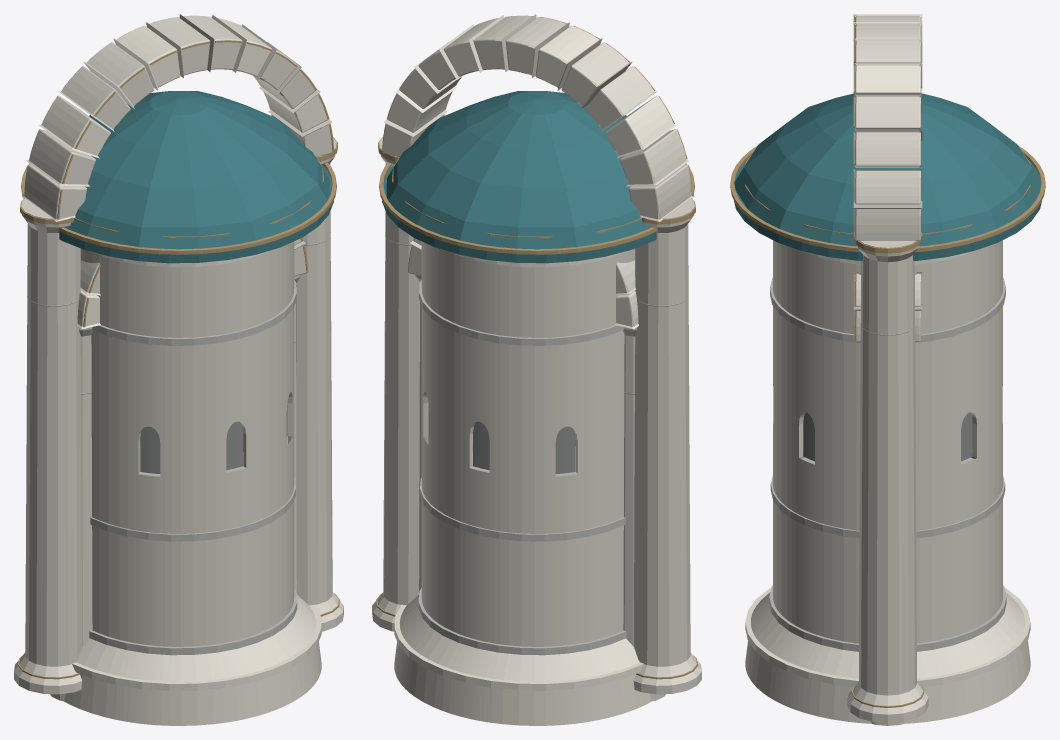
Rendered from world08-observatory-architecture.glb.
3 renders of one model, left to right at view 1: azimuth 30°, elevation 25°; view 2: azimuth 150°, elevation 25°; view 3: azimuth 270°, elevation 25°, orthographic.
Parts seen in each view (by area): view 1: observatory-wall-tower ivory-stone, observatory-lower-arch ivory-stone, observatory-wall-tower deep-teal-bronze, observatory-lower-arch stone-highlight, observatory-wall-tower stone-strata, observatory-upper-arch ivory-stone, observatory-wall-tower stone-highlight, observatory-wall-tower aged-brass, observatory-wall-tower recess-shadow, observatory-lower-arch aged-brass, observatory-upper-arch stone-highlight; view 2: observatory-wall-tower ivory-stone, observatory-lower-arch ivory-stone, observatory-wall-tower deep-teal-bronze, observatory-lower-arch stone-highlight, observatory-wall-tower stone-strata, observatory-upper-arch ivory-stone, observatory-wall-tower stone-highlight, observatory-wall-tower aged-brass, observatory-wall-tower recess-shadow, observatory-lower-arch aged-brass, observatory-upper-arch stone-highlight; view 3: observatory-wall-tower ivory-stone, observatory-lower-arch ivory-stone, observatory-wall-tower deep-teal-bronze, observatory-wall-tower stone-strata, observatory-lower-arch stone-highlight, observatory-wall-tower stone-highlight, observatory-wall-tower aged-brass, observatory-wall-tower recess-shadow, observatory-lower-arch aged-brass, observatory-upper-arch ivory-stone.
Part boxes in pixels (<box>): observatory-wall-tower ivory-stone: <box>64,241,321,725</box>; observatory-lower-arch ivory-stone: <box>14,14,343,694</box>; observatory-wall-tower deep-teal-bronze: <box>59,91,333,263</box>; observatory-lower-arch stone-highlight: <box>38,15,328,158</box>; observatory-wall-tower stone-strata: <box>89,280,297,655</box>; observatory-upper-arch ivory-stone: <box>50,241,306,701</box>; observatory-wall-tower stone-highlight: <box>72,251,321,690</box>; observatory-wall-tower aged-brass: <box>21,158,336,254</box>; observatory-wall-tower recess-shadow: <box>140,405,287,473</box>; observatory-lower-arch aged-brass: <box>18,40,339,679</box>; observatory-upper-arch stone-highlight: <box>77,239,301,329</box>; observatory-wall-tower ivory-stone: <box>394,241,651,725</box>; observatory-lower-arch ivory-stone: <box>372,14,701,694</box>; observatory-wall-tower deep-teal-bronze: <box>382,91,656,263</box>; observatory-lower-arch stone-highlight: <box>387,15,677,158</box>; observatory-wall-tower stone-strata: <box>418,280,626,655</box>; observatory-upper-arch ivory-stone: <box>408,241,665,701</box>; observatory-wall-tower stone-highlight: <box>394,251,643,690</box>; observatory-wall-tower aged-brass: <box>379,158,694,254</box>; observatory-wall-tower recess-shadow: <box>428,405,575,473</box>; observatory-lower-arch aged-brass: <box>376,15,697,679</box>; observatory-upper-arch stone-highlight: <box>413,238,638,329</box>; observatory-wall-tower ivory-stone: <box>745,240,1030,723</box>; observatory-lower-arch ivory-stone: <box>847,22,928,723</box>; observatory-wall-tower deep-teal-bronze: <box>734,93,1041,260</box>; observatory-wall-tower stone-strata: <box>769,277,1006,651</box>; observatory-lower-arch stone-highlight: <box>853,14,922,204</box>; observatory-wall-tower stone-highlight: <box>745,250,1030,687</box>; observatory-wall-tower aged-brass: <box>730,146,1045,252</box>; observatory-wall-tower recess-shadow: <box>803,412,972,461</box>; observatory-lower-arch aged-brass: <box>851,16,924,707</box>; observatory-upper-arch ivory-stone: <box>853,307,922,725</box>.
Bounding box in the file's own units: 6.28 × 11.92 × 5.37.
